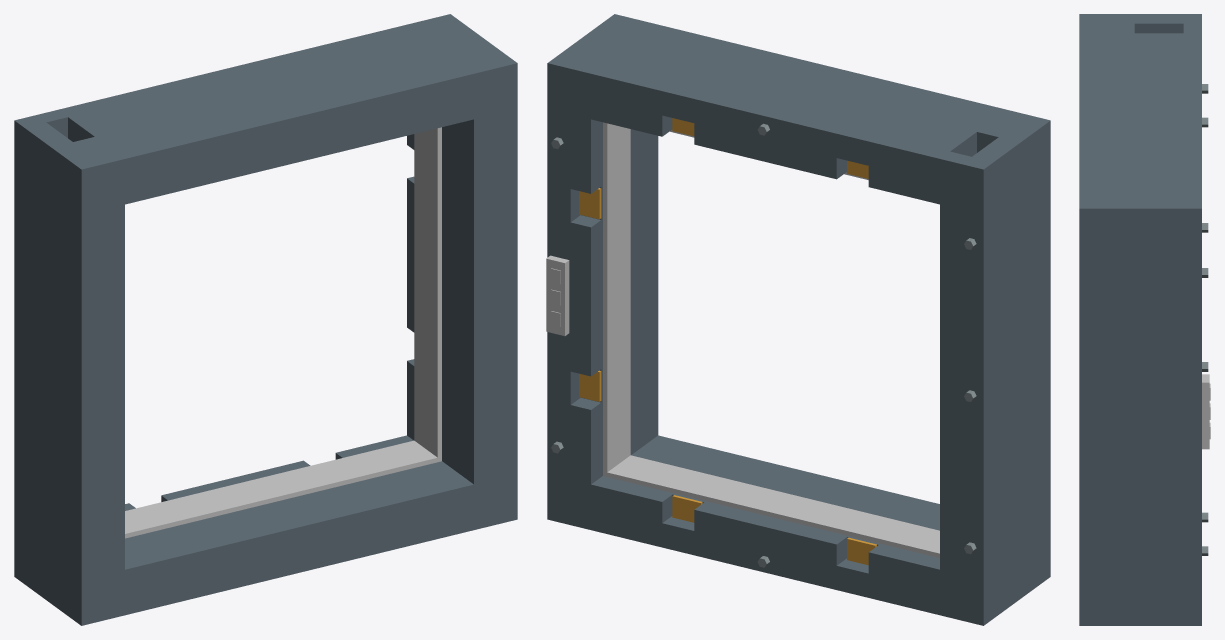
The model's file is body.obj.
3 views of the same model, side by side, from view 1: azimuth 30°, elevation 25°; view 2: azimuth 150°, elevation 25°; view 3: azimuth 270°, elevation 25° (orthographic). The views are drawn at different scales.
Size of the model in its own units: 3 by 3 by 0.856.
